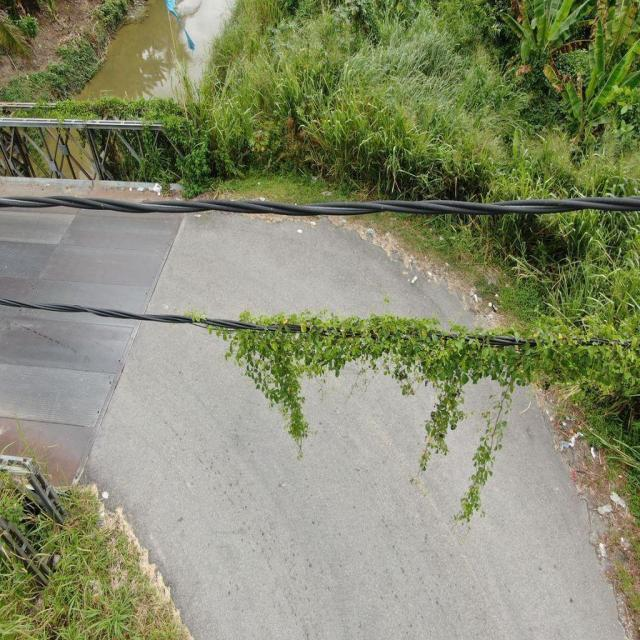critical vegetation: (181, 298, 638, 530)
